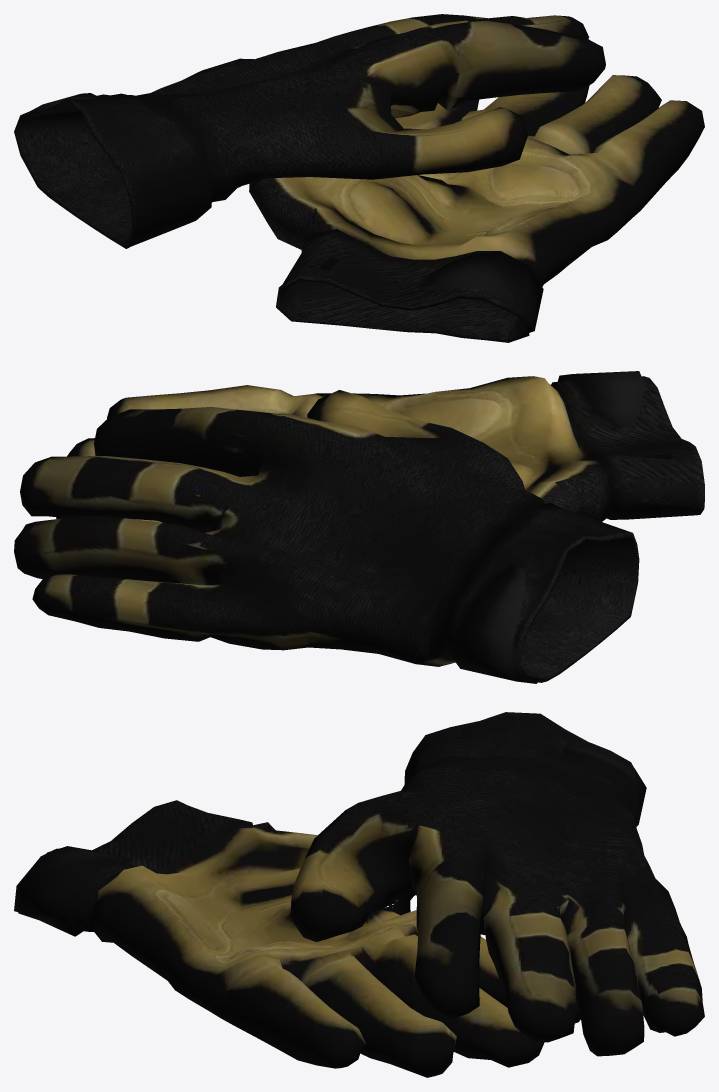
File: guanti.glb
The picture shows the model from 3 angles, top to bottom: view 1: azimuth 30°, elevation 25°; view 2: azimuth 150°, elevation 25°; view 3: azimuth 270°, elevation 25°; orthographic projection. The views are drawn at different scales.
Parts seen in each view (by area): view 1: Guanti; view 2: Guanti; view 3: Guanti.
Boxes of the visible parts, x1,y1,x2,y2 form: Guanti: (14,14,704,342); Guanti: (14,371,704,683); Guanti: (14,712,704,1077).
Size of the model in its own units: 0.2002 by 0.0444 by 0.2185.
1 material, 1 textured.
